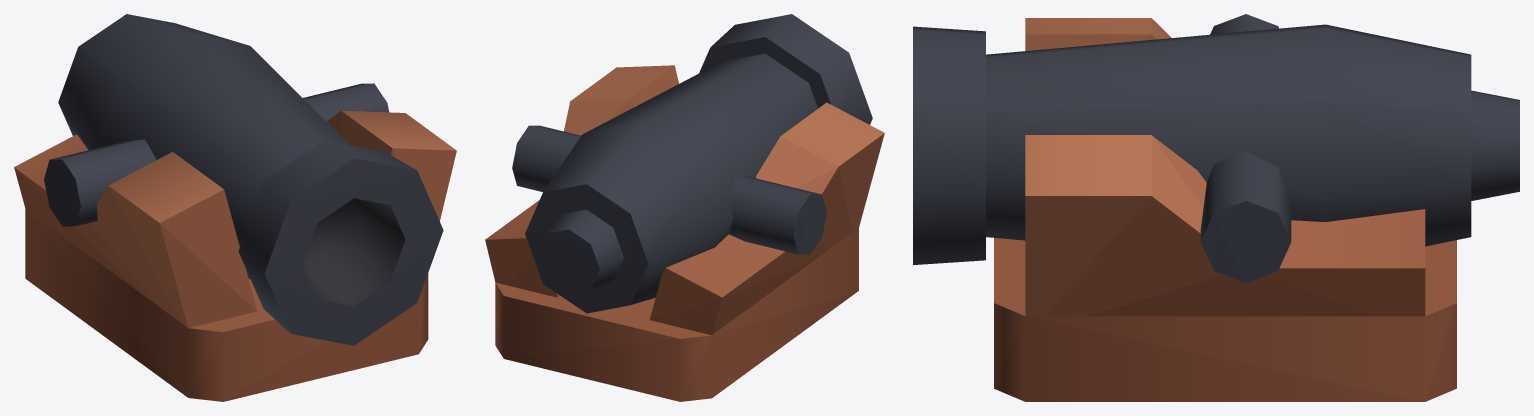
The model's file is pirate_cannon.glb.
3 views of the same model, side by side, from view 1: azimuth 30°, elevation 25°; view 2: azimuth 150°, elevation 25°; view 3: azimuth 270°, elevation 25° (orthographic). The views are drawn at different scales.
Visible parts, largest first — view 1: pirate_cannon; view 2: pirate_cannon; view 3: pirate_cannon.
Boxes of the visible parts, x1,y1,x2,y2 form: pirate_cannon: [14, 14, 456, 401]; pirate_cannon: [485, 14, 884, 401]; pirate_cannon: [913, 14, 1519, 401].
Bounding box in the file's own units: 1.4 × 1.05 × 1.92.
